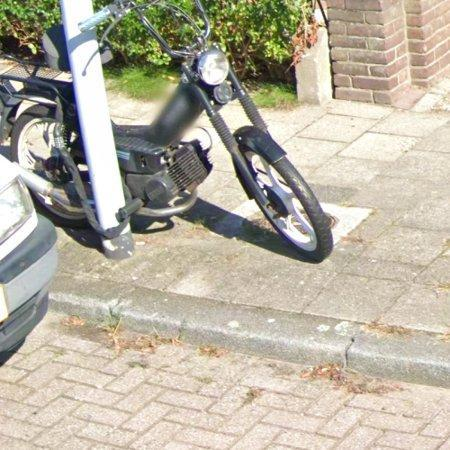motorcycles: (0, 0, 334, 261)
